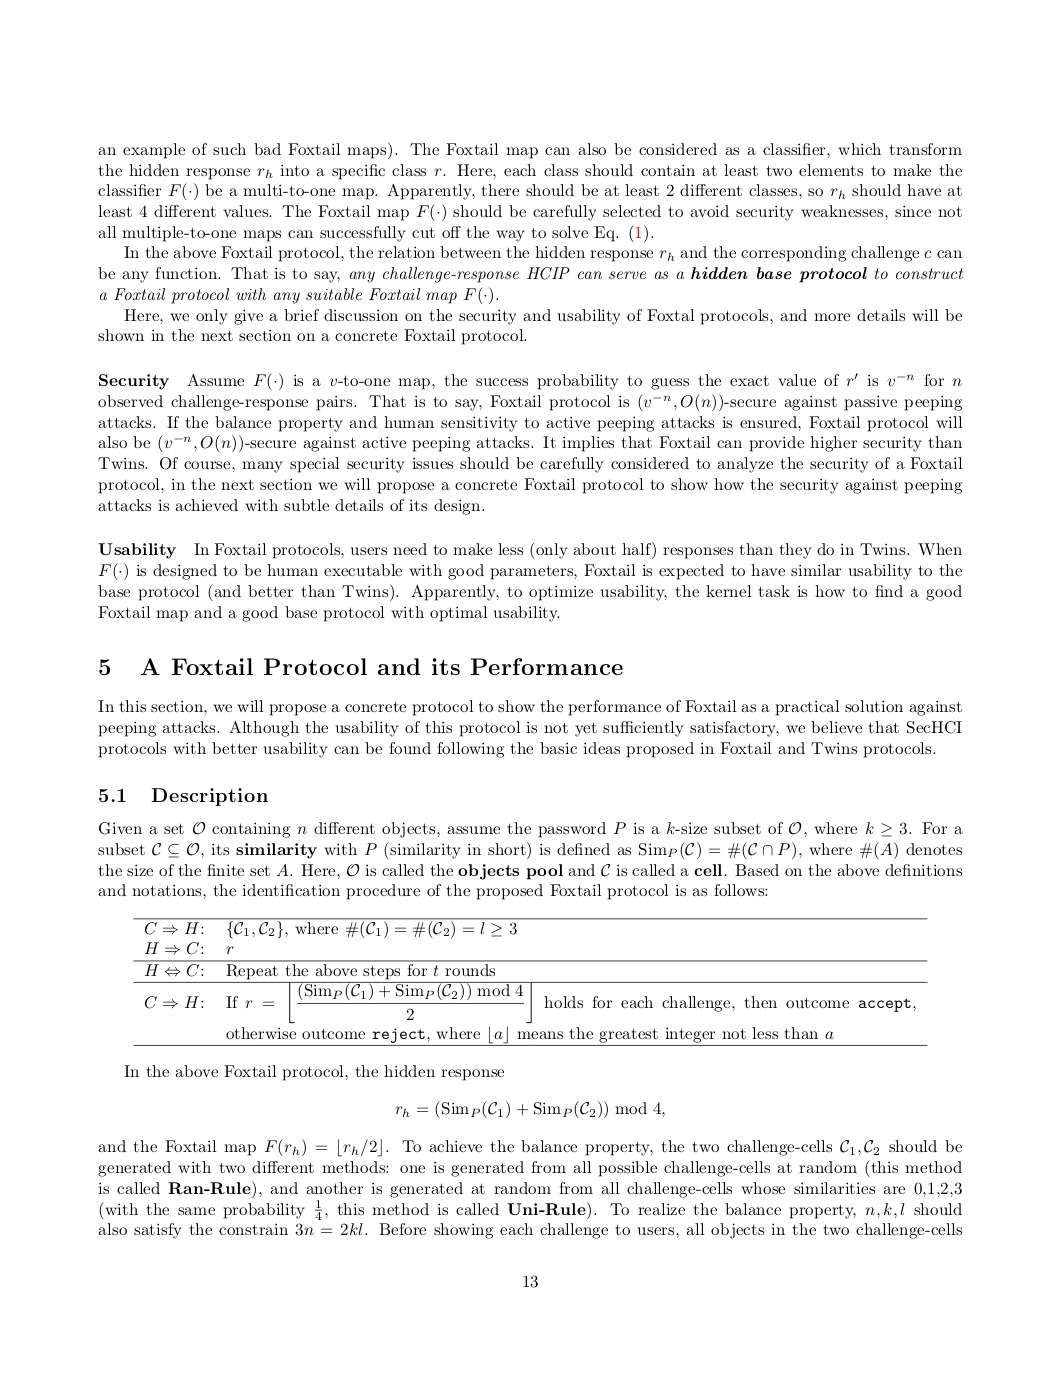Table: (133, 918, 927, 1045)
formula: (395, 1100, 664, 1119)
